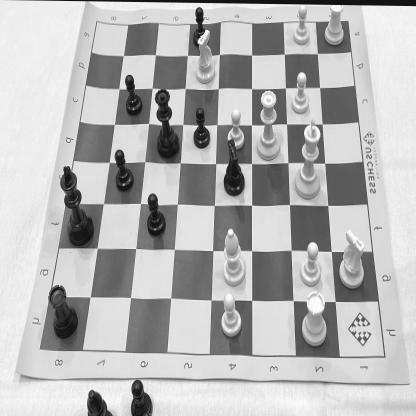black-king: (59, 160, 99, 248)
black-knight: (221, 138, 248, 197)
black-pawn: (143, 188, 167, 237), (113, 146, 136, 196), (122, 72, 146, 116), (192, 105, 212, 151), (190, 4, 210, 47)
black-queen: (154, 84, 180, 160)
black-rook: (48, 280, 80, 339)
white-bishop: (221, 223, 250, 287)
white-king: (292, 114, 324, 199)
white-knight: (338, 225, 371, 288), (192, 27, 221, 84)
white-pawn: (298, 239, 324, 288), (220, 288, 244, 340), (224, 106, 248, 151), (290, 69, 311, 118), (291, 4, 314, 46)
white-queen: (254, 87, 282, 160)
white-rook: (300, 289, 330, 348), (322, 4, 349, 46)
